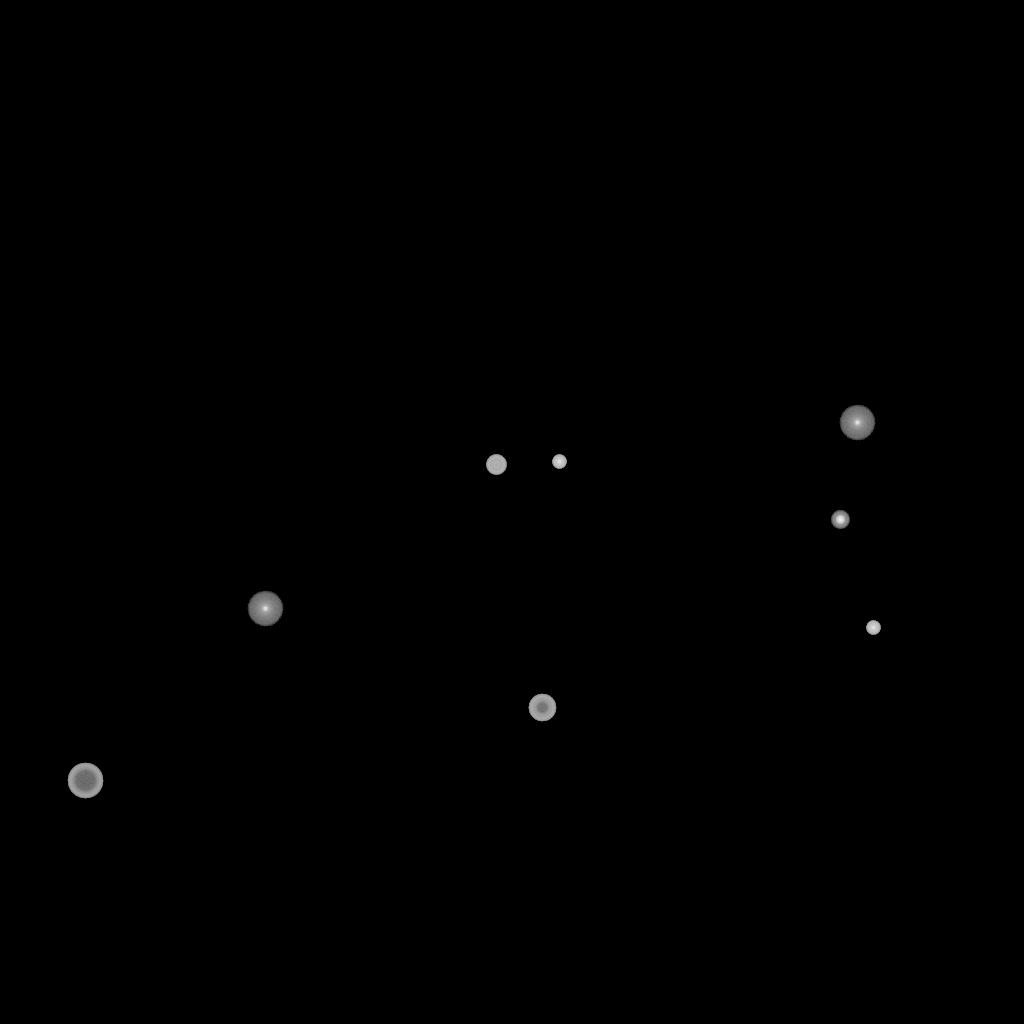depth:-20: (831, 511, 849, 529)
depth:-30: (552, 455, 566, 469), (866, 621, 880, 635)
depth:-40: (486, 455, 506, 475)
depth:-50: (528, 694, 556, 722)
depth:-60: (67, 763, 103, 799)
depth:0: (839, 405, 875, 441), (247, 591, 283, 627)
